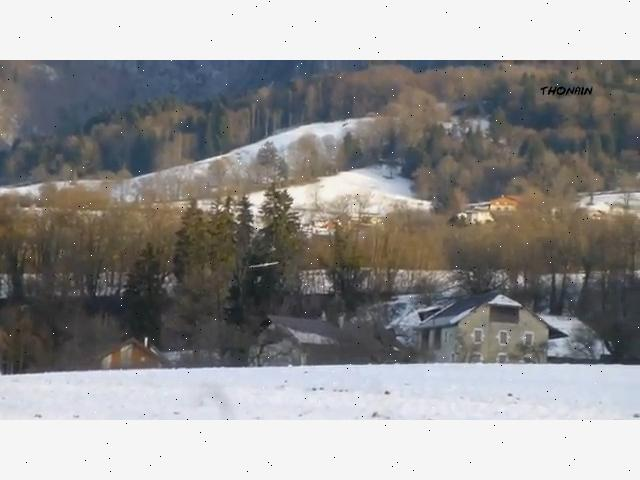Anti-Drone: (238, 253, 288, 281)
